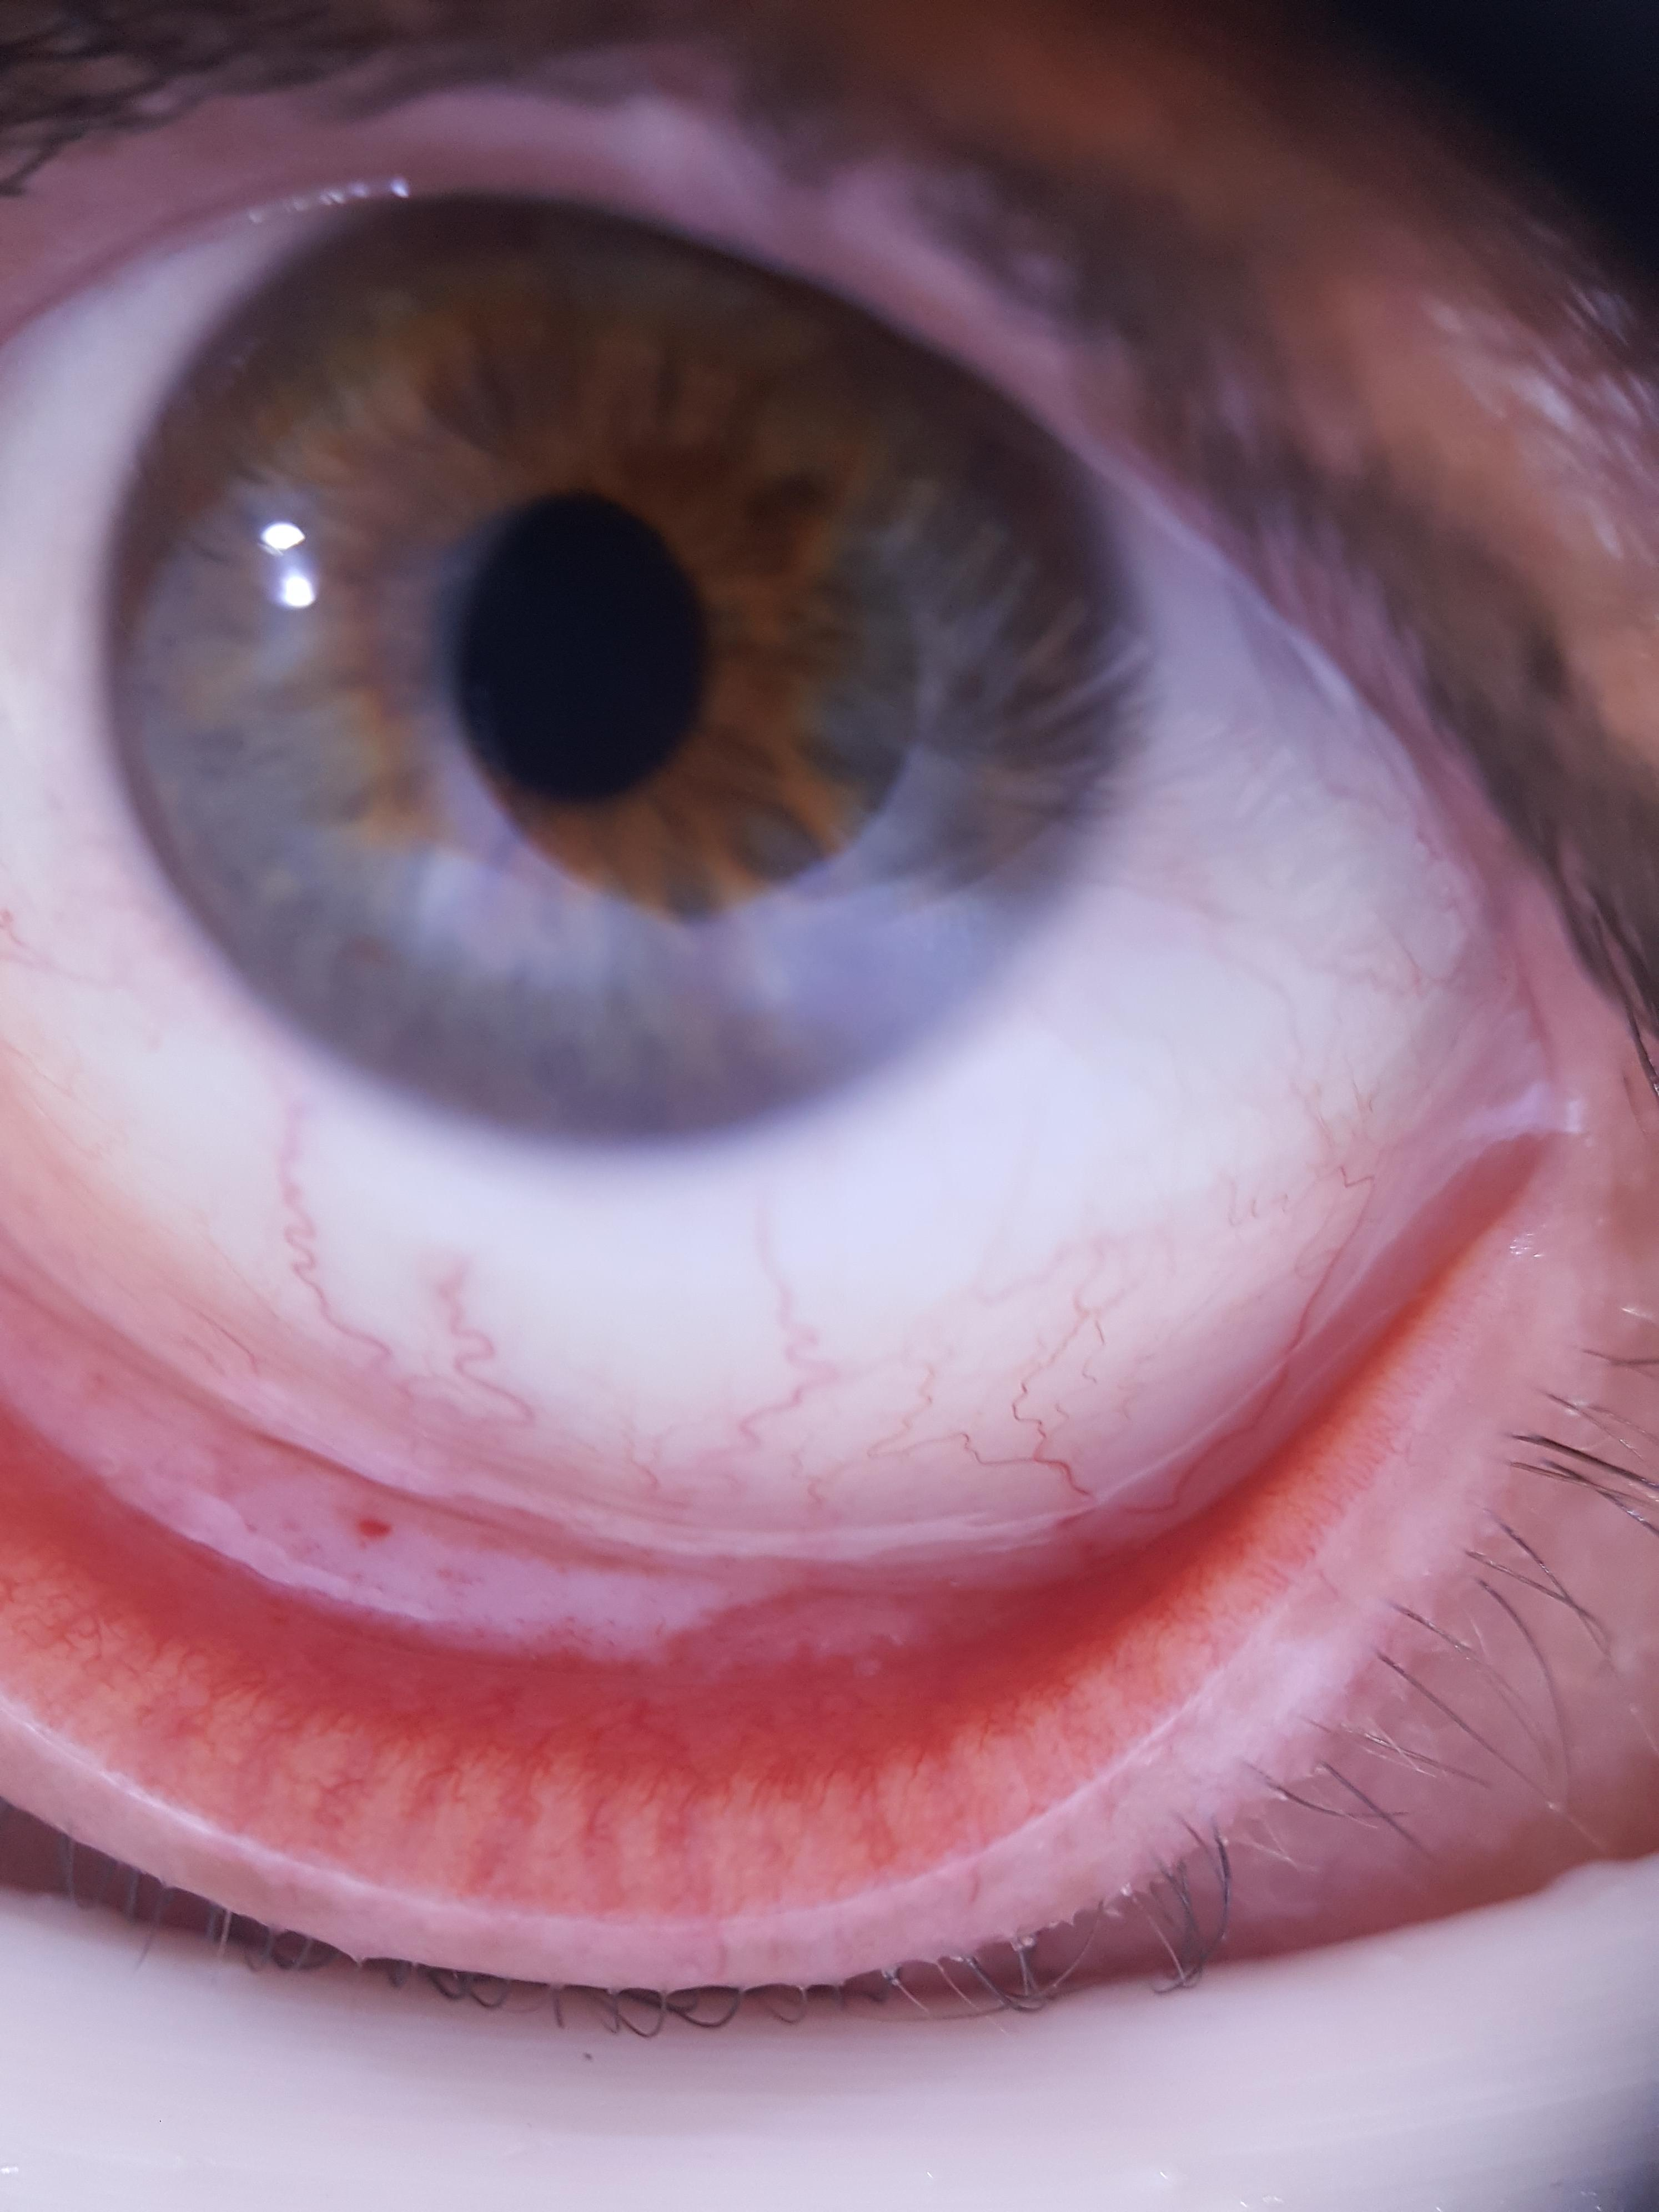forniceal: (0, 1144, 1532, 1677)
forniceal_palpebral: (0, 1165, 1527, 1855)
palpebral: (0, 1211, 1511, 1855)
